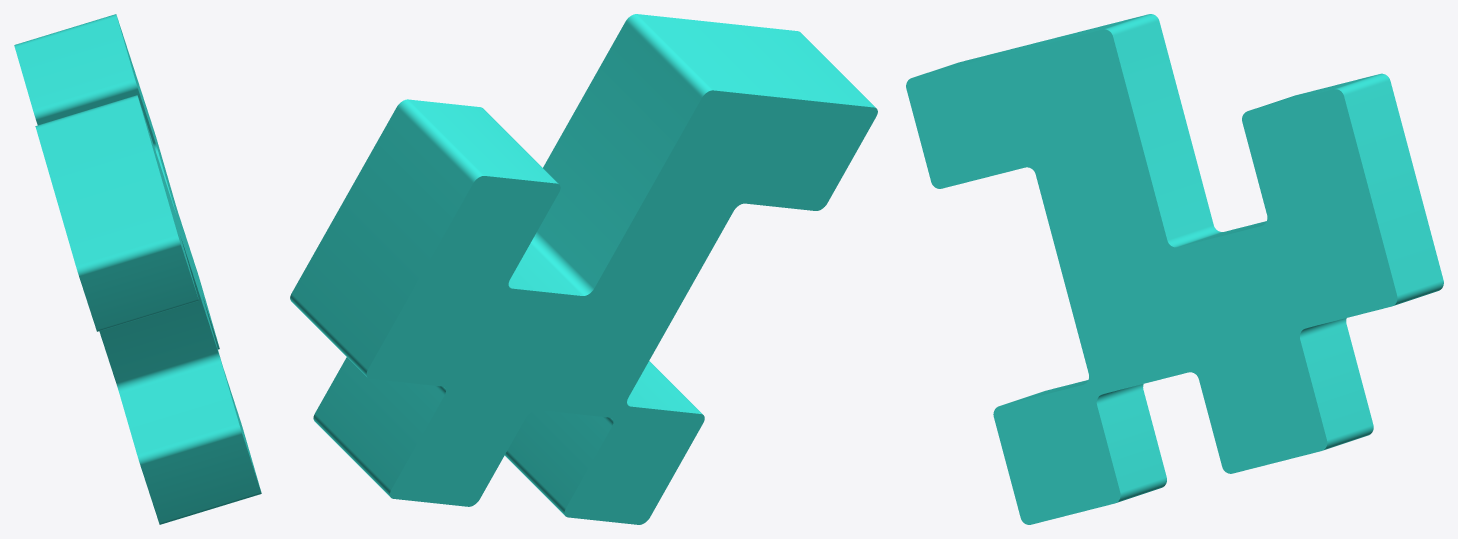
File: services.gltf
3 views of the same model, side by side, from view 1: azimuth 30°, elevation 25°; view 2: azimuth 150°, elevation 25°; view 3: azimuth 270°, elevation 25° (orthographic). The views are drawn at different scales.
Visible parts, largest first — view 1: Shape 0; view 2: Shape 0; view 3: Shape 0.
Boxes of the visible parts, left/top/right/bottom form: Shape 0: left=14, top=14, right=261, bottom=524; Shape 0: left=290, top=14, right=877, bottom=524; Shape 0: left=906, top=14, right=1443, bottom=524.
Bounding box in the file's own units: 0.868 × 1.22 × 1.25.
